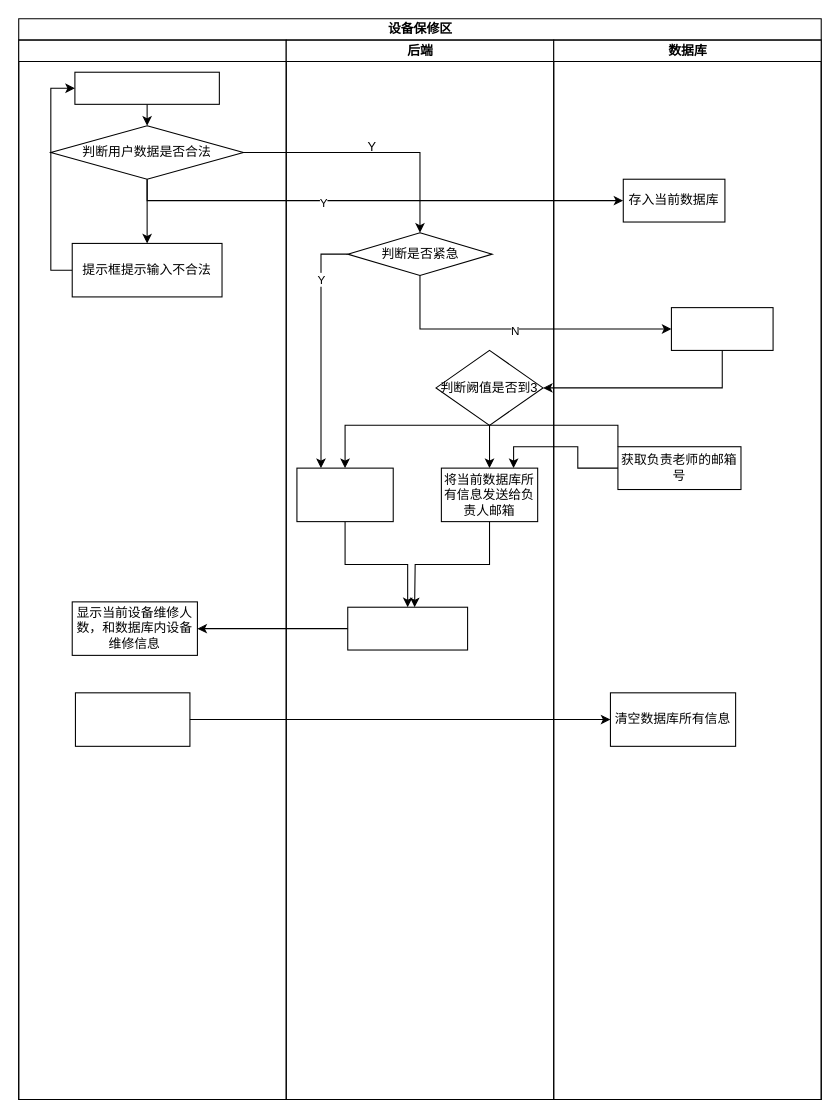
Image size: 840x1118. Some labels were removed from this diagram. The box of each missing label's shape, as (x1, y1, x2, y2) in pixels:
从数据库取出当前数据: (670, 307, 773, 350)
前端: (18, 39, 286, 1099)
将当前数据发送给负责人邮箱: (296, 467, 393, 522)
得到当前设备维修信息: (347, 606, 468, 650)
接收用户数据: (74, 71, 219, 104)
负责人点击取消按钮: (74, 692, 190, 746)
